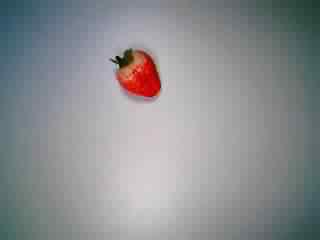strawberry: (102, 40, 170, 104)
